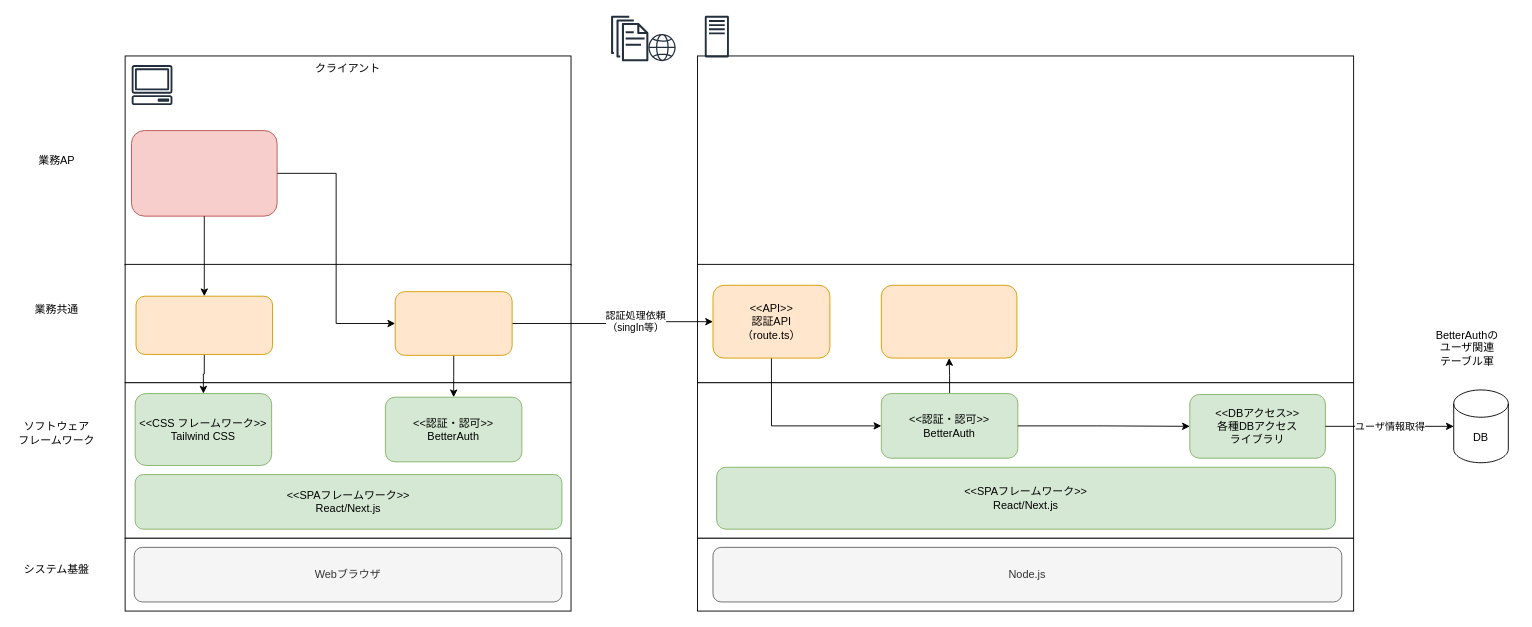
This 1532x627 diagram has some shape labels left out. The box of each missing label's shape, as (x1, y1, x2, y2) in pixels:
<<共通画面部品>> UIコンポーネント （クライアント コンポーネント）: (135, 295, 273, 354)
<<画面>> View （クライアント コンポーネンント +サーバレンダリング結果 ）: (131, 130, 277, 216)
<<認証クライアント>> AuthClient (authClient.ts): (394, 291, 512, 355)
<<認証・認可>> Auth （auth.ts）: (880, 284, 1017, 358)
BFFサーバ: (697, 55, 1354, 265)
静的Web コンテンツ: (611, 15, 648, 61)
